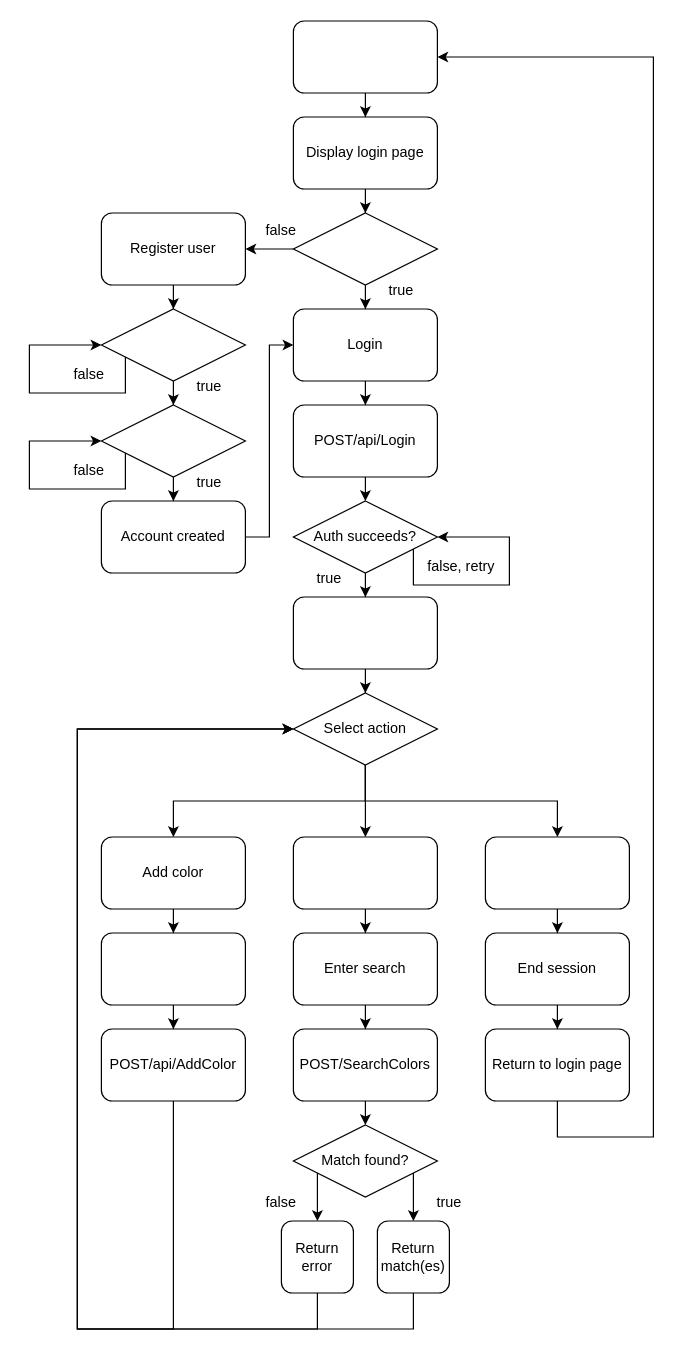
Some shapes in this 684 by 1360 pixel diagram are drawn without their labels. Each missing label, with the centre of its shape:
"App loads" goes at pixel 364 56.
"Display home page" goes at pixel 364 632.
"Enter color name" goes at pixel 172 968.
"Input fits char limit?" goes at pixel 172 440.
"Logout" goes at pixel 556 872.
"Search color" goes at pixel 364 872.
"User exists?" goes at pixel 364 248.
"Username unique?" goes at pixel 172 344.
